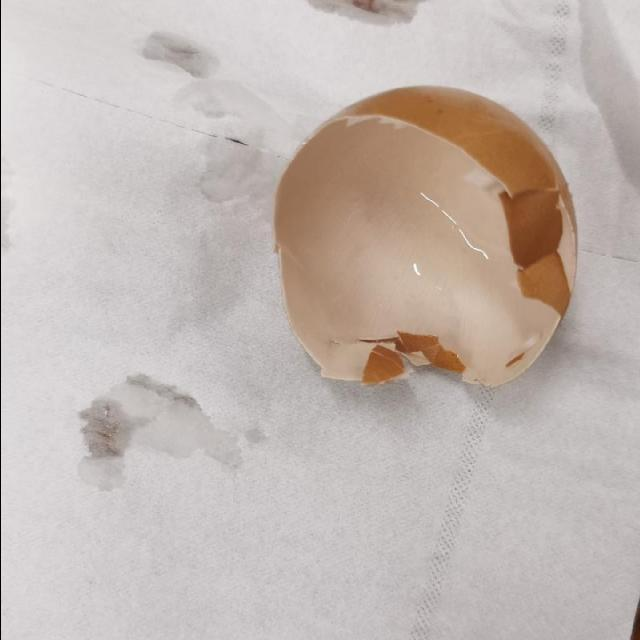egg shell: (272, 80, 576, 388)
